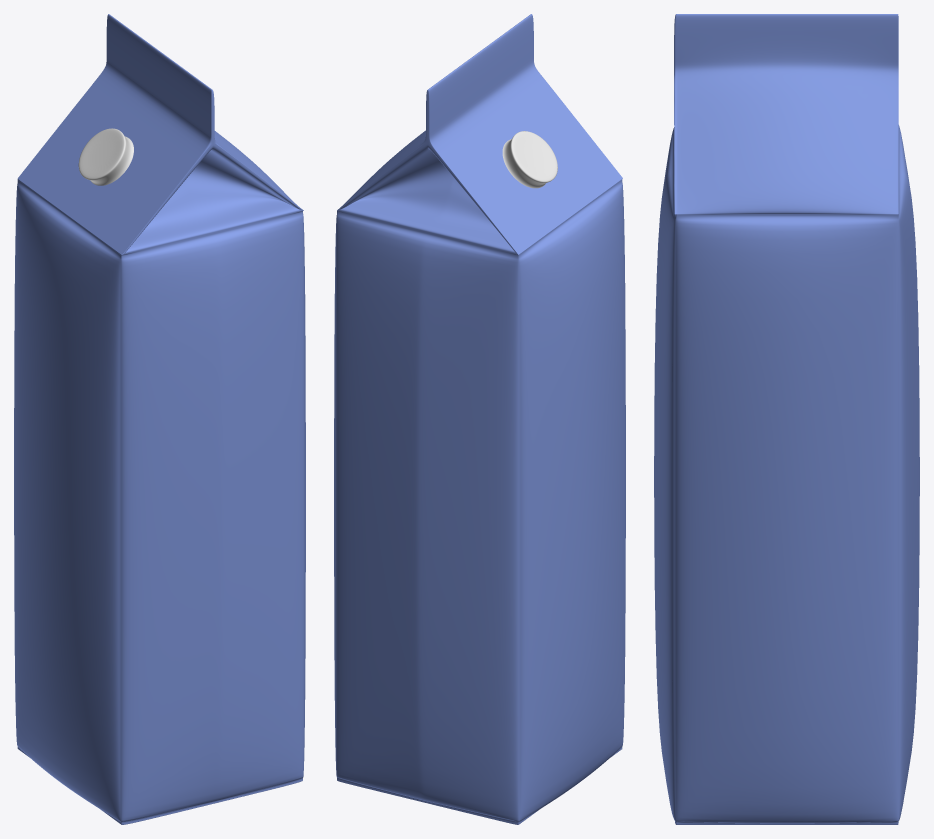
File: Milk.fbx
3 views of the same model, side by side, from view 1: azimuth 30°, elevation 25°; view 2: azimuth 150°, elevation 25°; view 3: azimuth 270°, elevation 25° (orthographic). The views are drawn at different scales.
Visible parts, largest first — view 1: Cube.002, Cylinder; view 2: Cube.002, Cylinder; view 3: Cube.002.
Part boxes in pixels (left/top/right/bottom): Cube.002: left=14, top=14, right=305, bottom=824; Cylinder: left=78, top=128, right=133, bottom=185; Cube.002: left=334, top=14, right=625, bottom=824; Cylinder: left=502, top=131, right=557, bottom=188; Cube.002: left=654, top=14, right=919, bottom=824.
Bounding box in the file's own units: 5.94 × 18.1 × 5.7.
